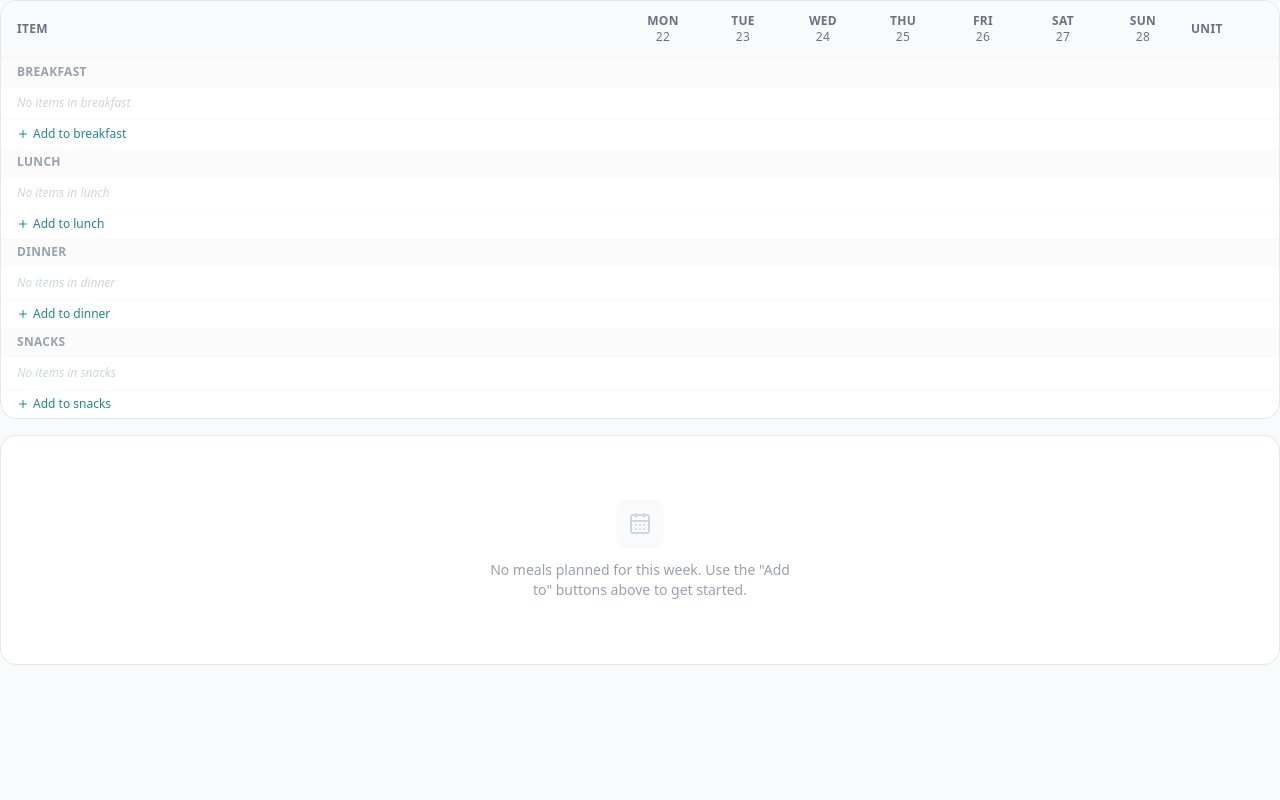
Test case: WeekSummaryGrid › shows error when adding with quantity 0
Click the button "Add to breakfast" at (72, 134), box [17,126,126,142]
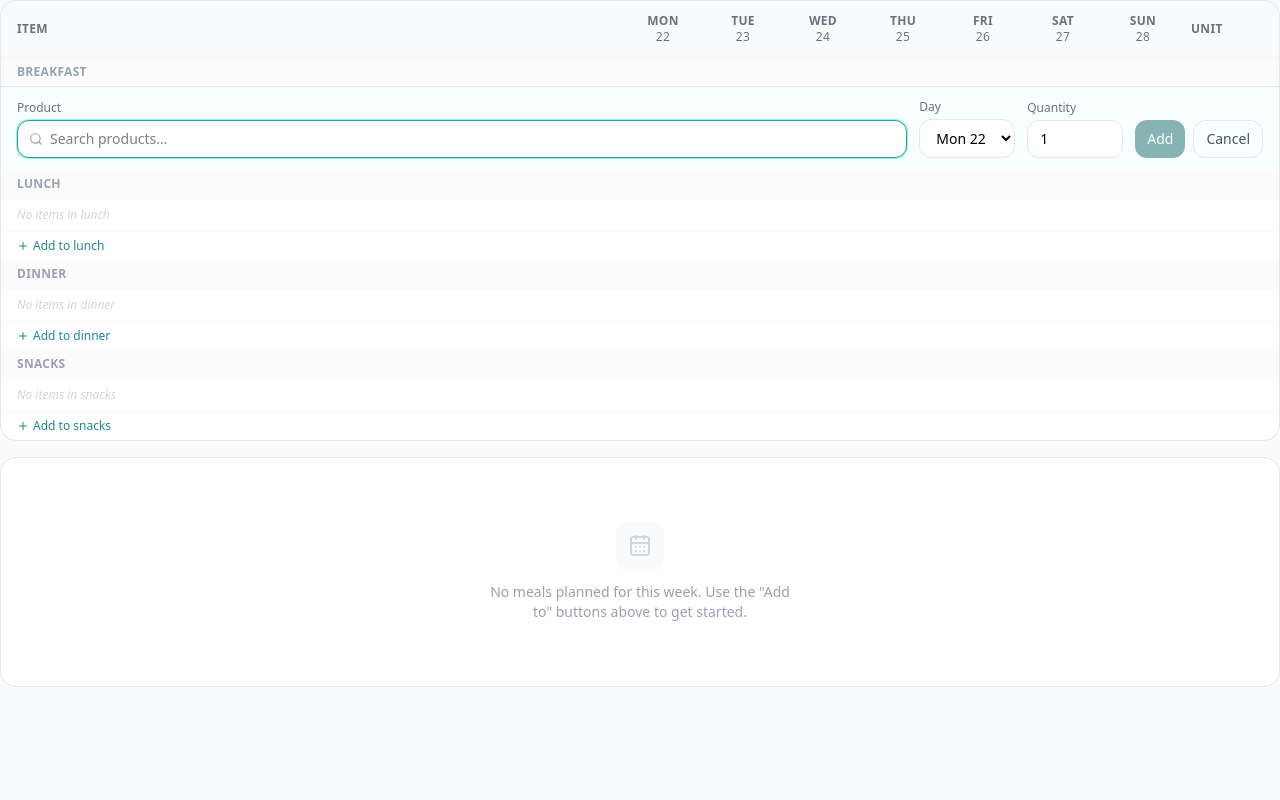
# Use the specific search combobox
Type "apple" into the dropdown named "search for a product" at (462, 139), box [17,120,907,158]
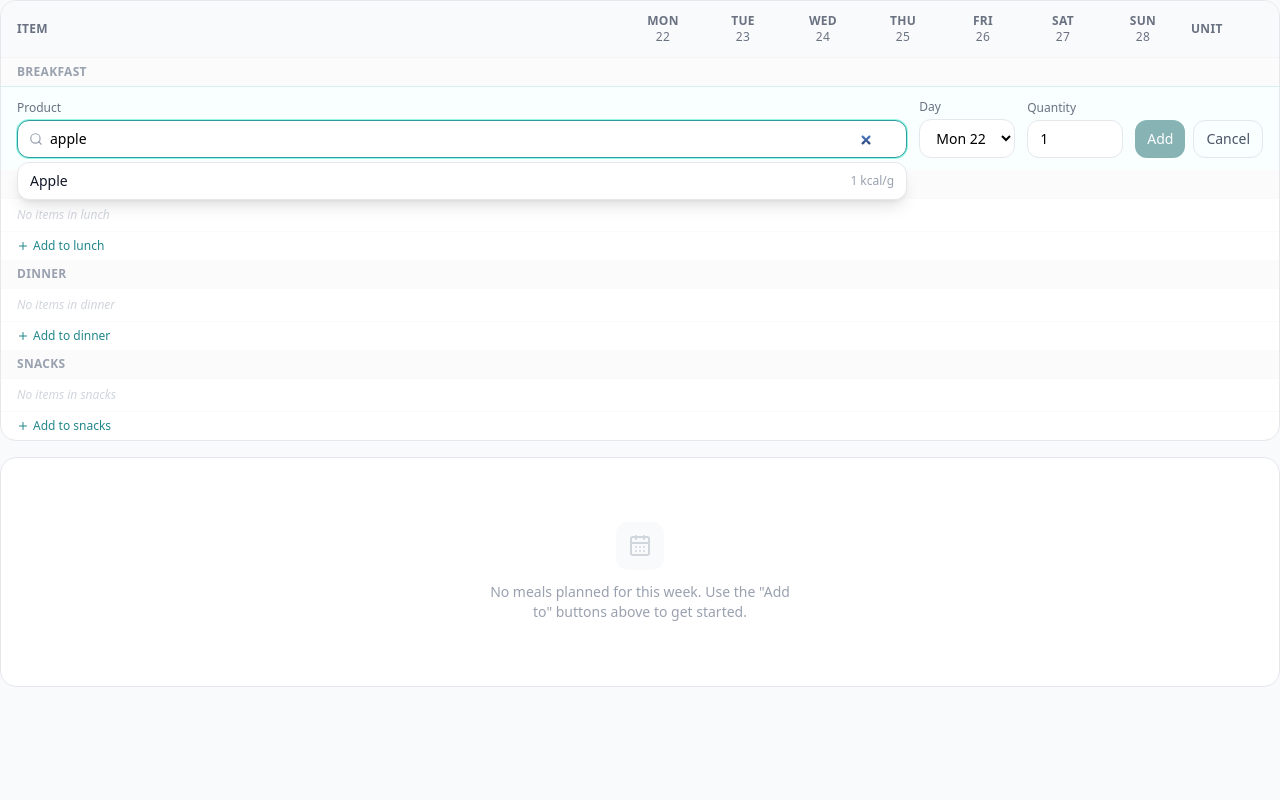
Check: the list named "product search results" is shown, box [17,162,907,200]
Click the text "Apple" at (49, 181), box [30,171,68,191]
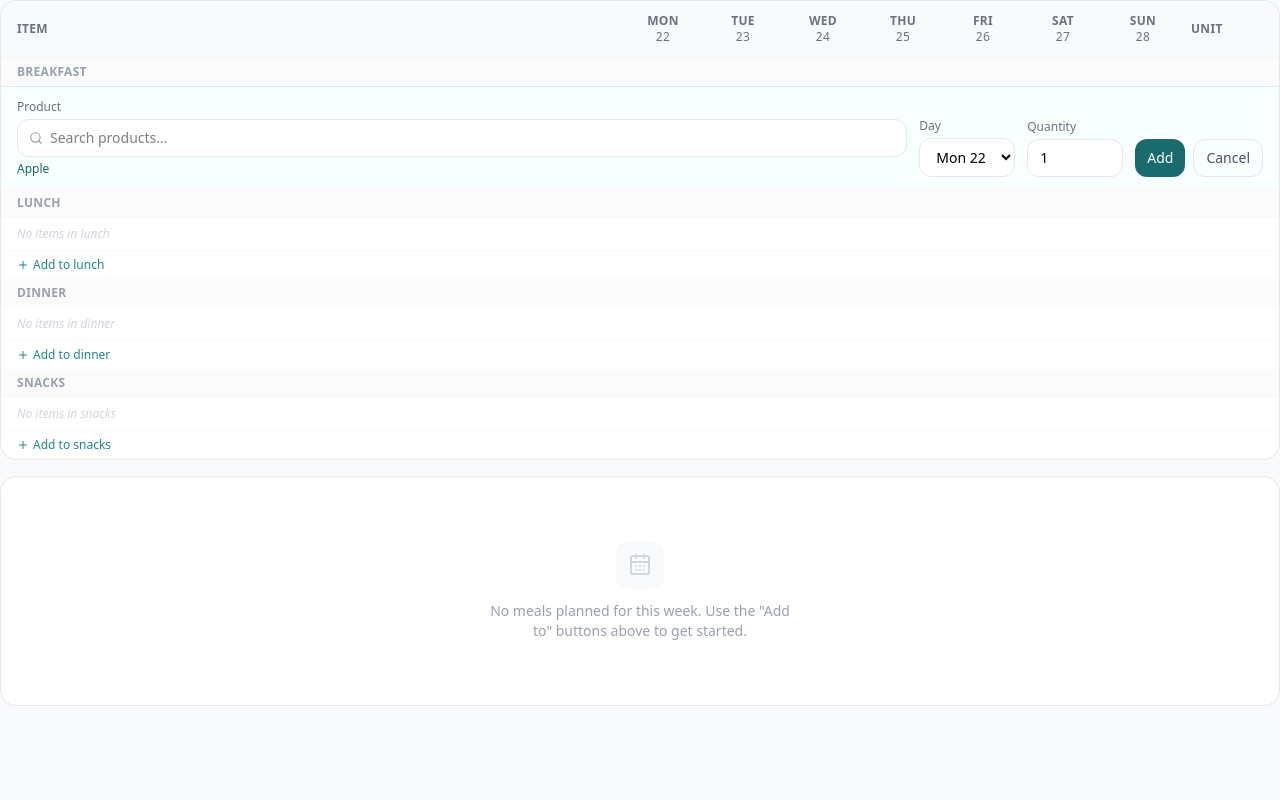
# Set quantity to 0
Replace the text in the number field labelled "Quantity" with "0" at (1075, 158), box [1027,139,1123,177]
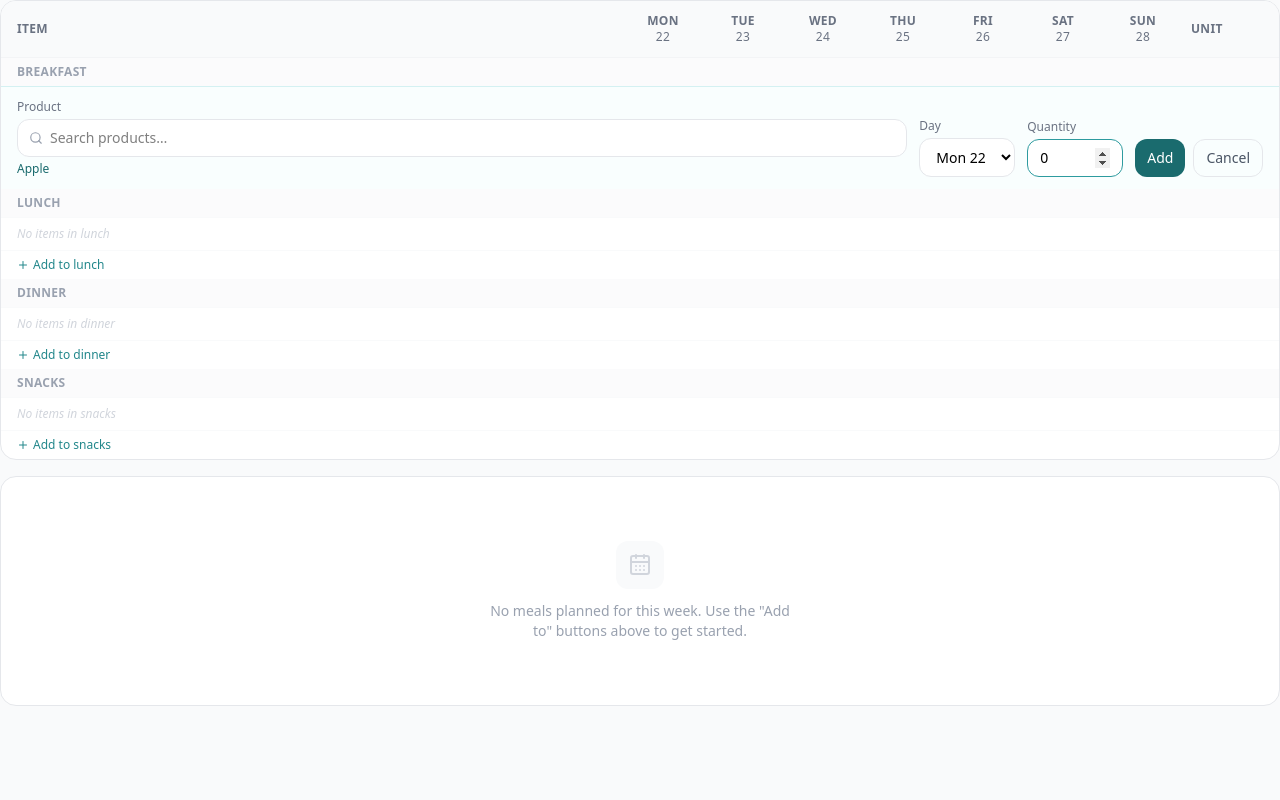
Click the button "Add" at (1160, 158), box [1135,139,1185,177]
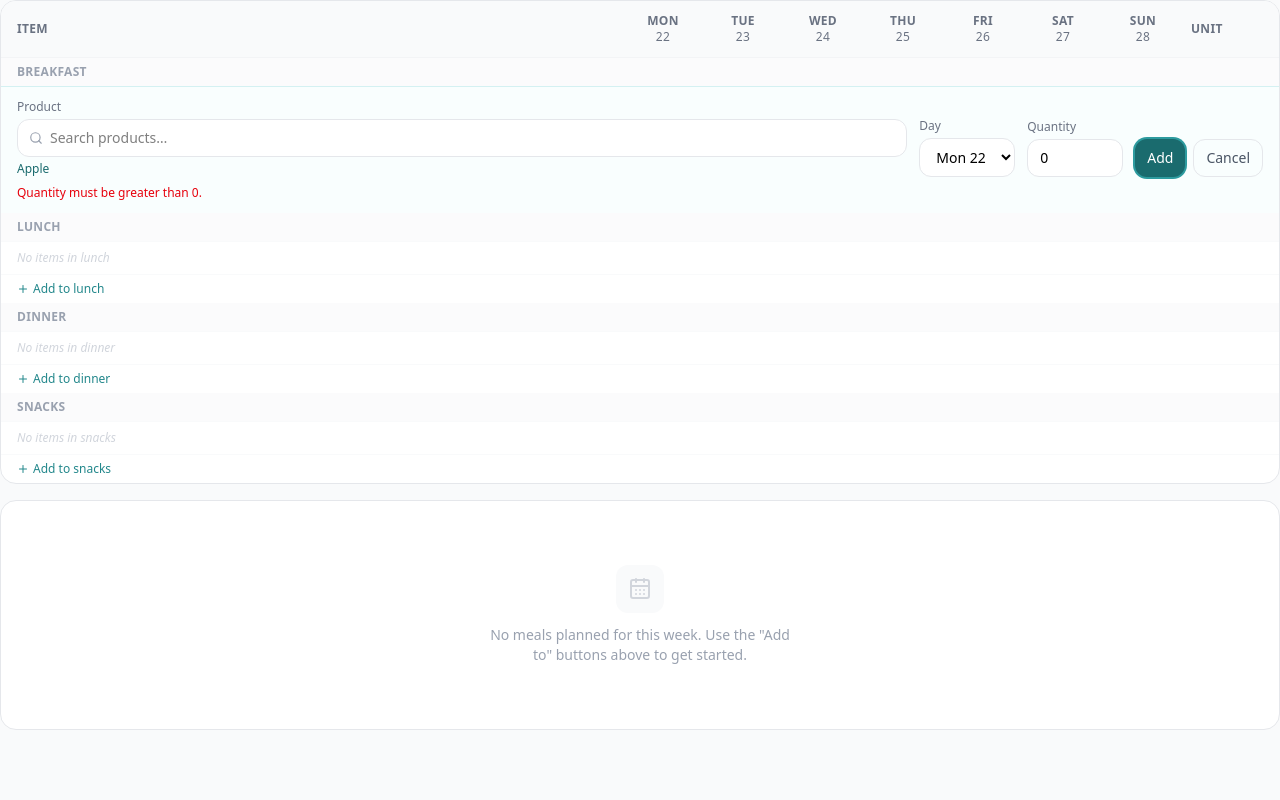
Check: the message shows "Quantity must be greater than 0", box [17,184,202,201]
